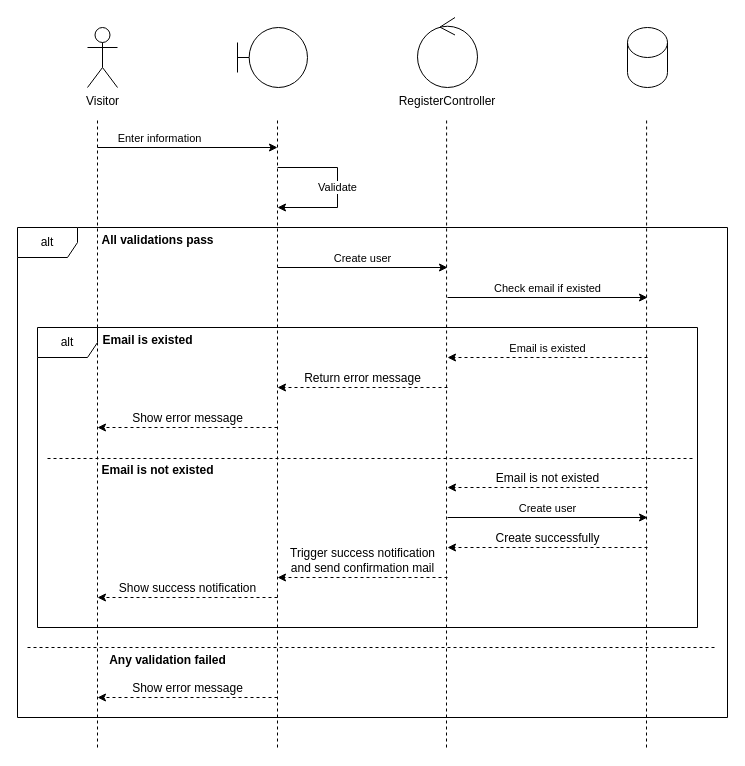
This 745x766 diagram has some shape labels left out. The shapes that lost their labels are listed below. From the top down, each one's centre as x and y in pixels, then its label:
the point at 272,57: RegisterForm
the point at 647,57: User Database
